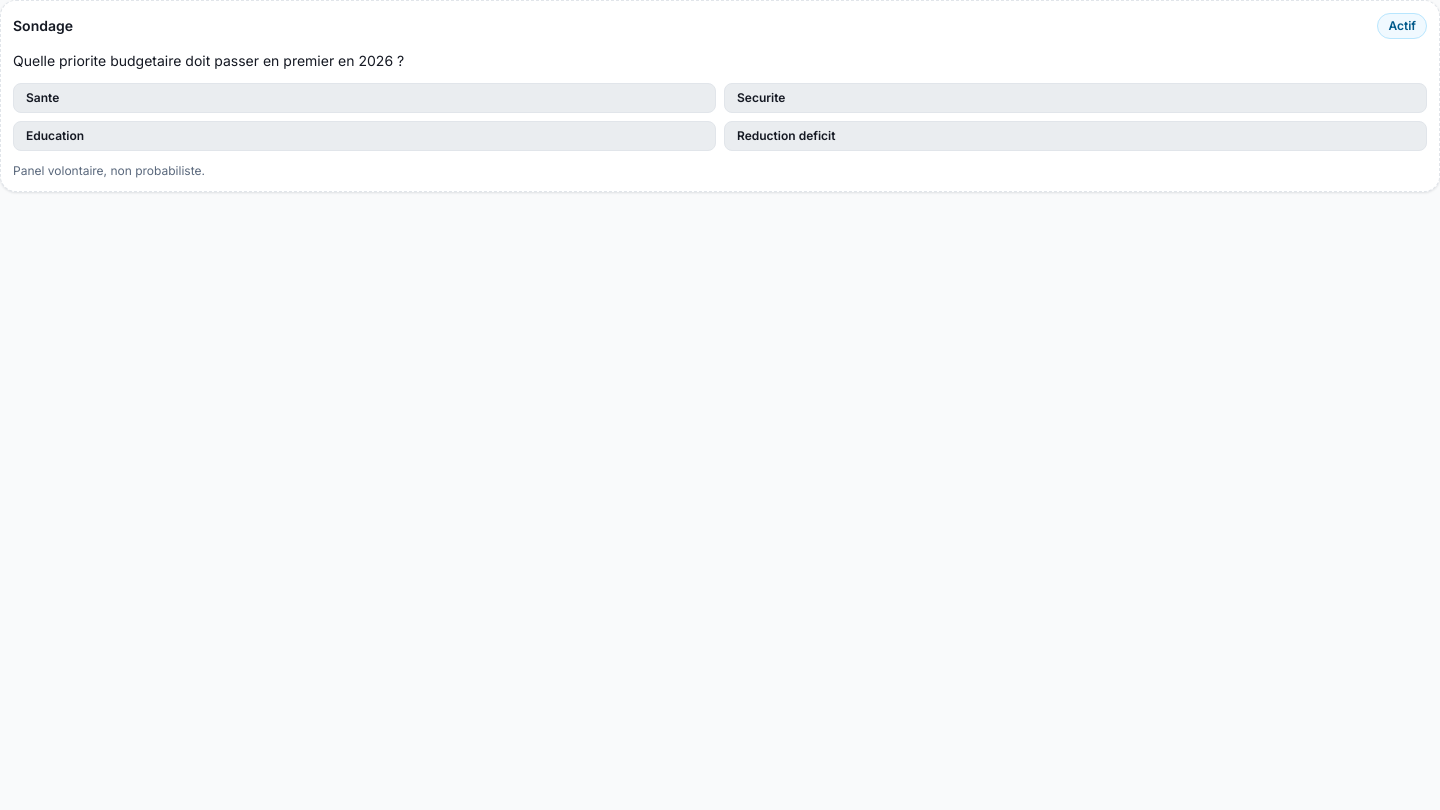
Test: poll card inline › switches to results after vote
Click the button "Sante" at (43, 98), box [13,83,716,113]
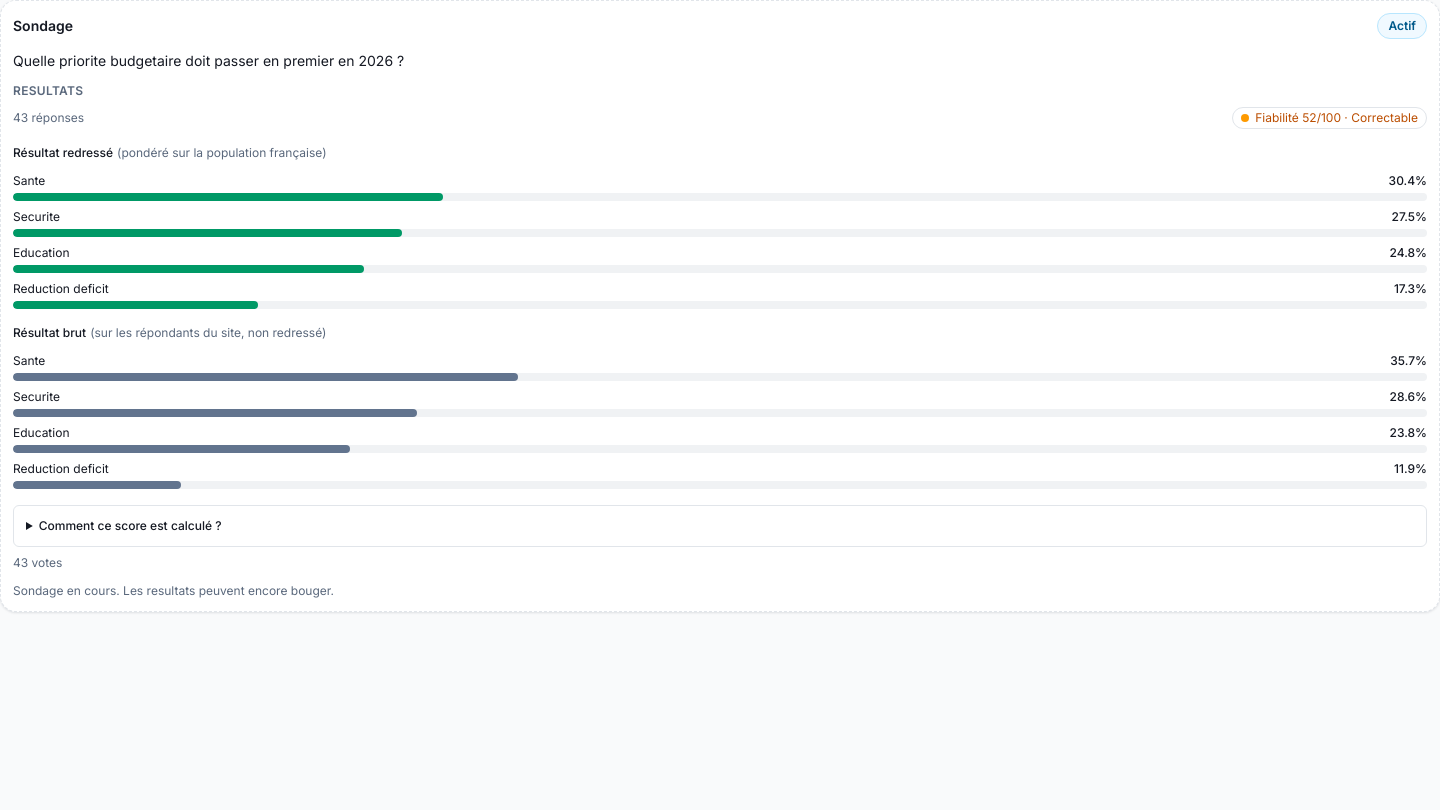
Result: the text "Resultats" is shown at [13,83,83,98]
